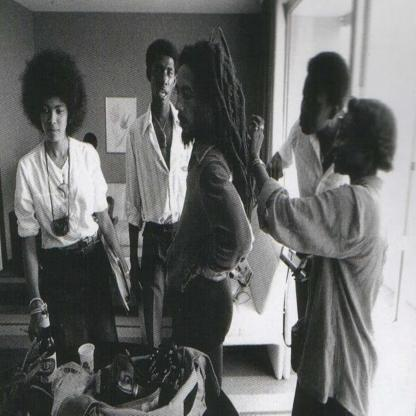face: (177, 73, 208, 144), (301, 72, 331, 135), (41, 87, 69, 143), (336, 115, 359, 173), (152, 57, 173, 106)
